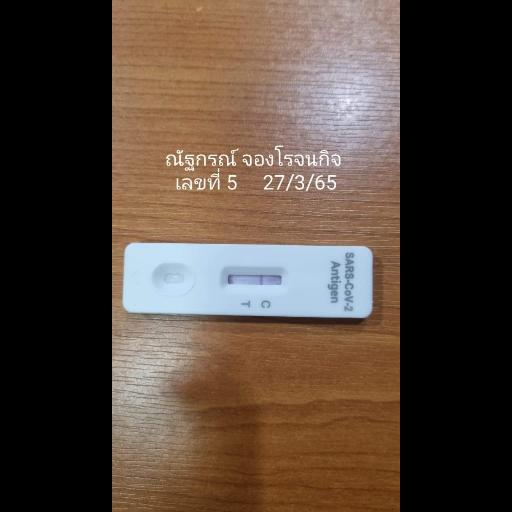Neg: (125, 242, 374, 319)
